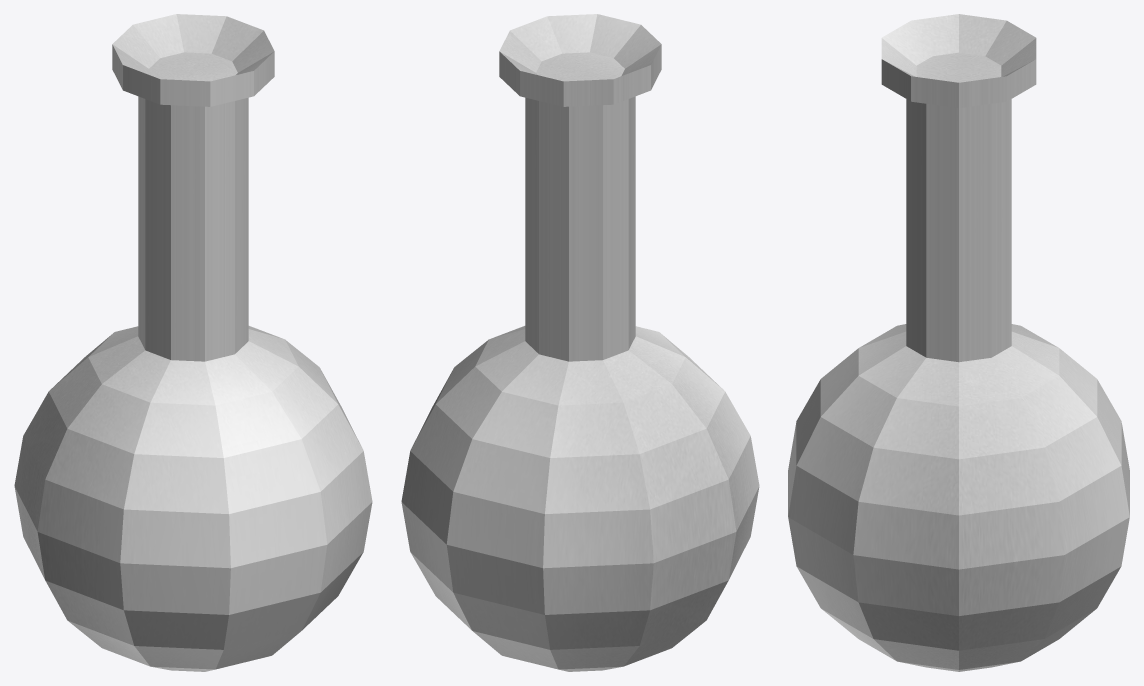
The model's file is Potion_Bottle.fbx.
3 renders of one model, left to right at view 1: azimuth 30°, elevation 25°; view 2: azimuth 150°, elevation 25°; view 3: azimuth 270°, elevation 25°, orthographic.
Visible parts, largest first — view 1: potionbottle; view 2: potionbottle; view 3: potionbottle.
Part boxes in pixels (x1,y1,x2,y2): potionbottle: [14, 14, 372, 671]; potionbottle: [401, 14, 759, 671]; potionbottle: [788, 14, 1129, 671].
Bounding box in the file's own units: 0.266 × 0.4966 × 0.253.
Materials: 1 (1 with a texture image).
